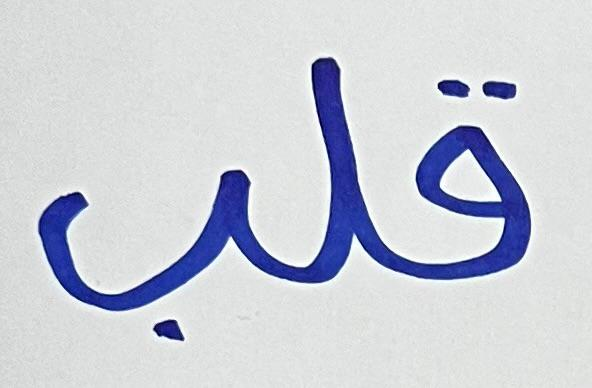beh: (32, 165, 253, 345)
lam: (258, 46, 376, 293)
qaf: (379, 72, 553, 285)
